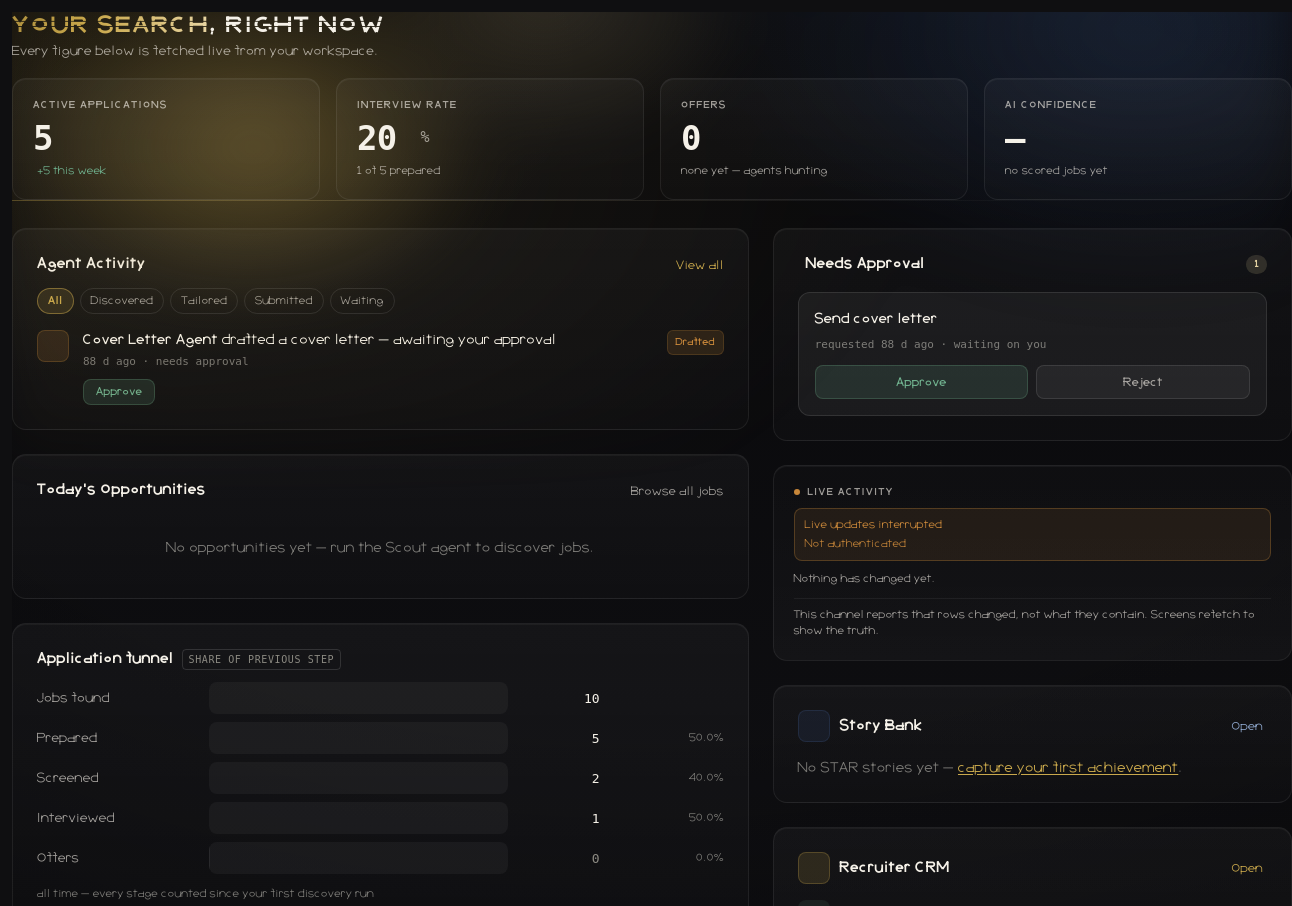
Test: Dashboard agent feed — MV-dashboard-009 stale Approve button › shows a clean generic honest message (not raw error text) for a non-409 approve failure
The width and height of the screenshot is (1292, 906).
Step 1. Click the button "Approve" below "· needs approval" → (119, 392), box x1=83 y1=379 x2=155 y2=405
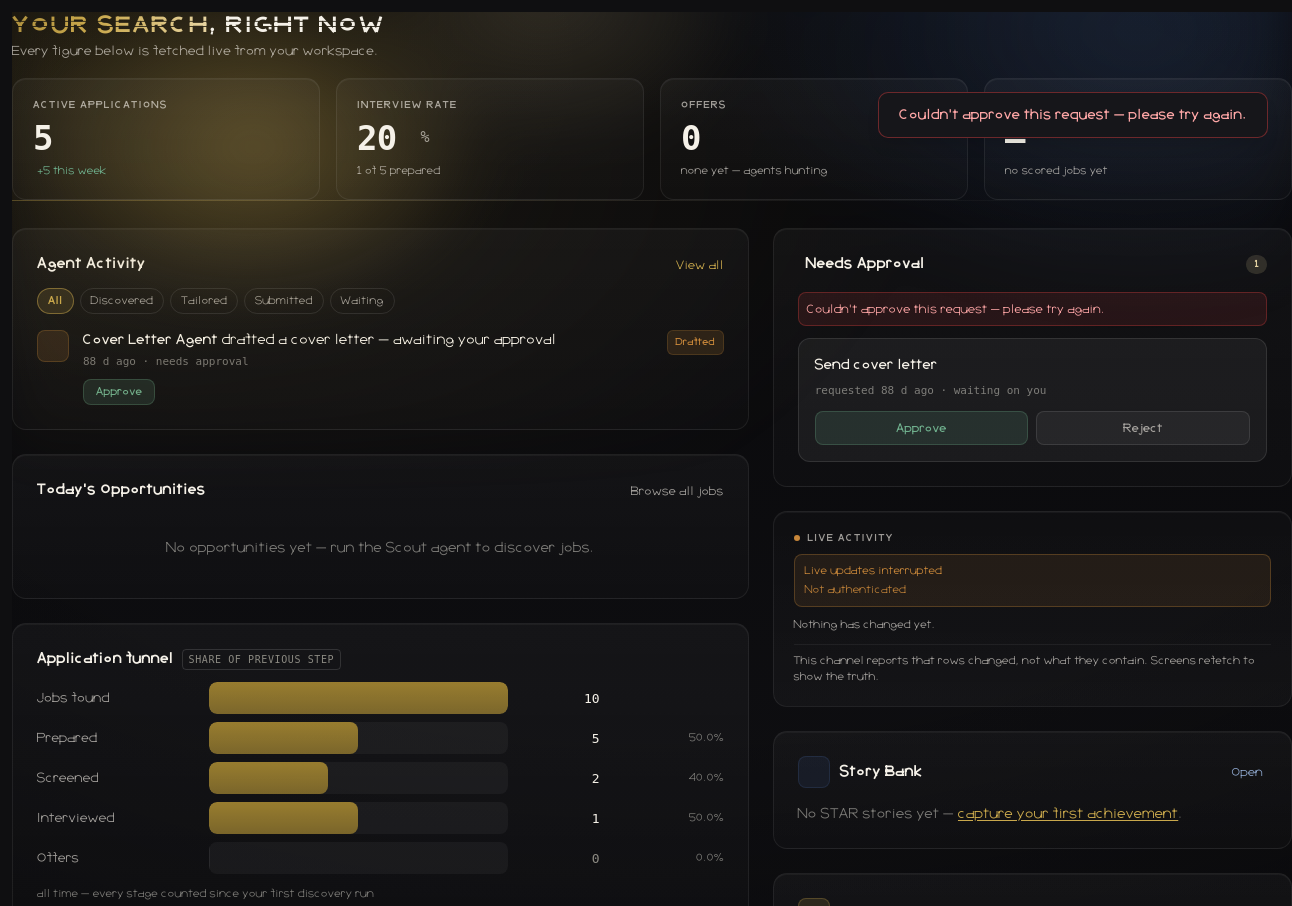
Expected: the 1st message "Couldn't approve this request — please try again." is shown, x1=878 y1=92 x2=1268 y2=138
